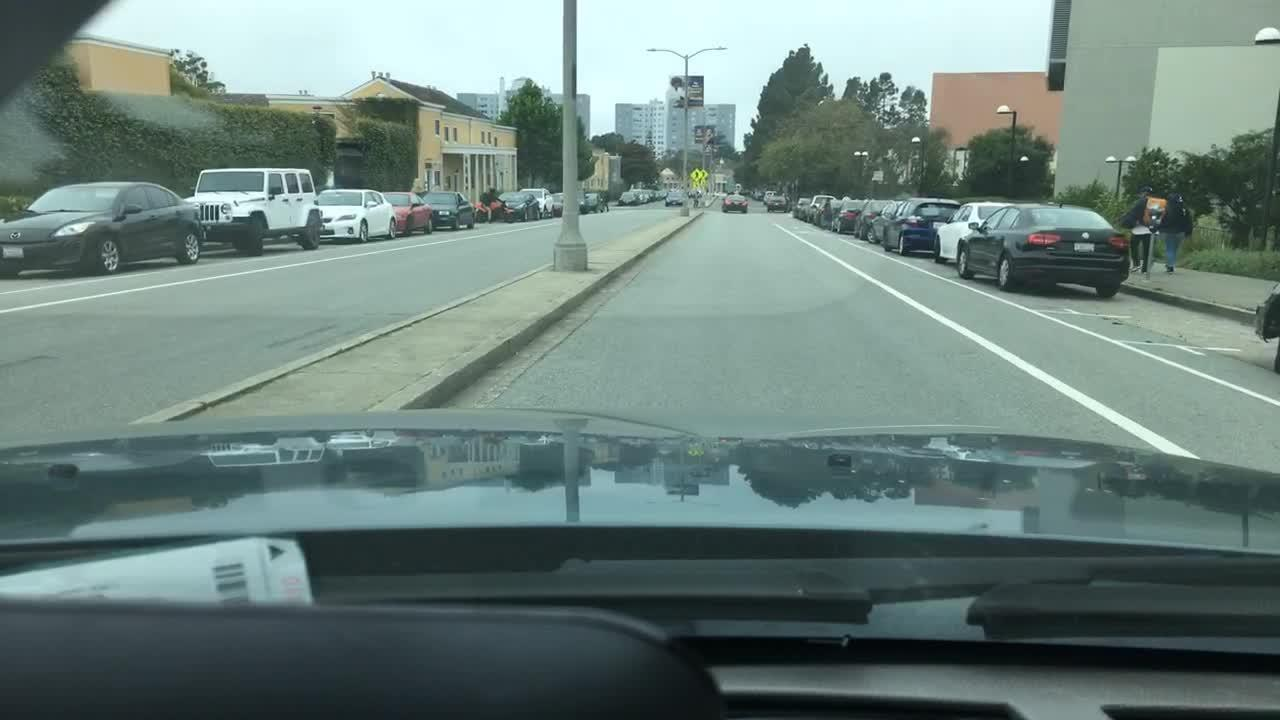Mazda: (9, 231, 22, 241)
